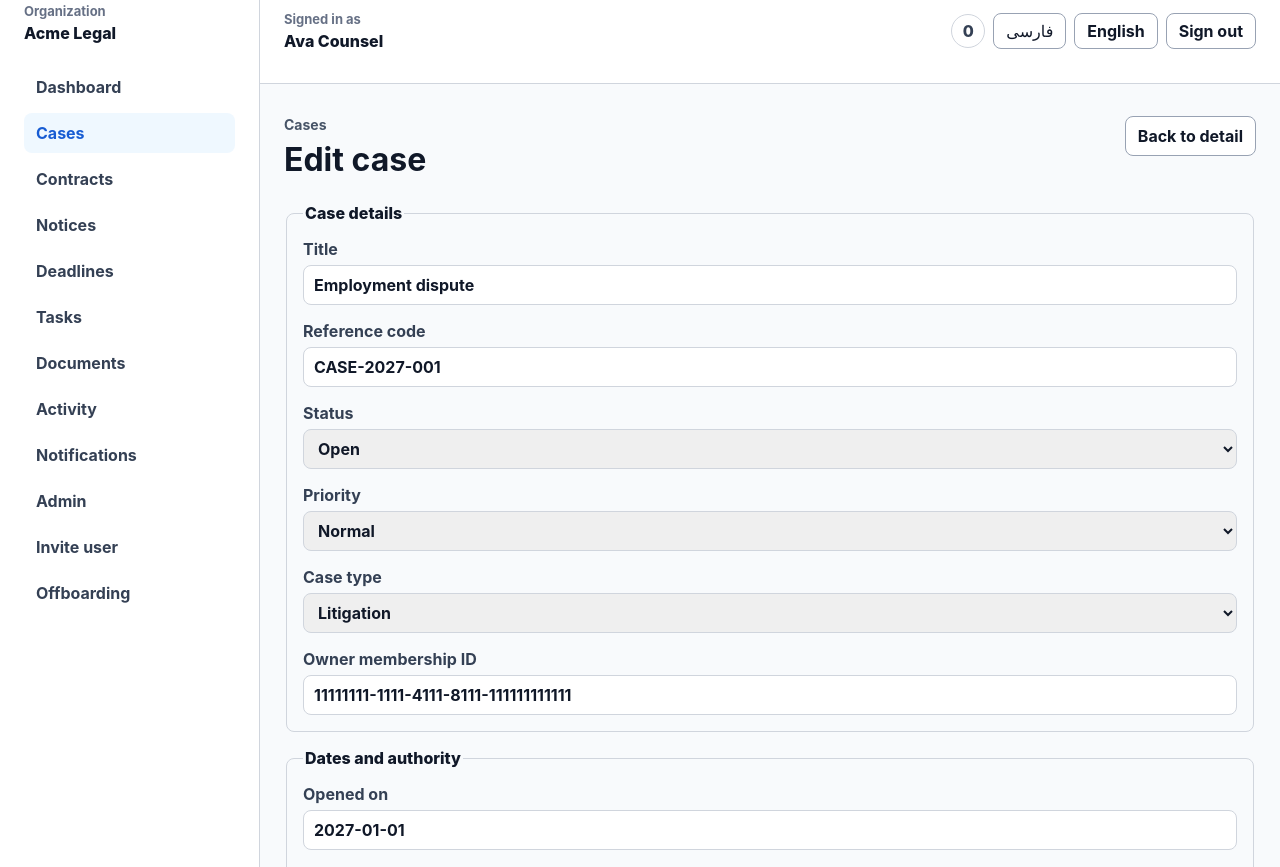
Scenario: version conflict is shown without clearing edited input
Replace the text in the field labelled "Title" with "Updated title". click: (770, 285)
box: [303, 265, 1237, 305]
(page scrolled)
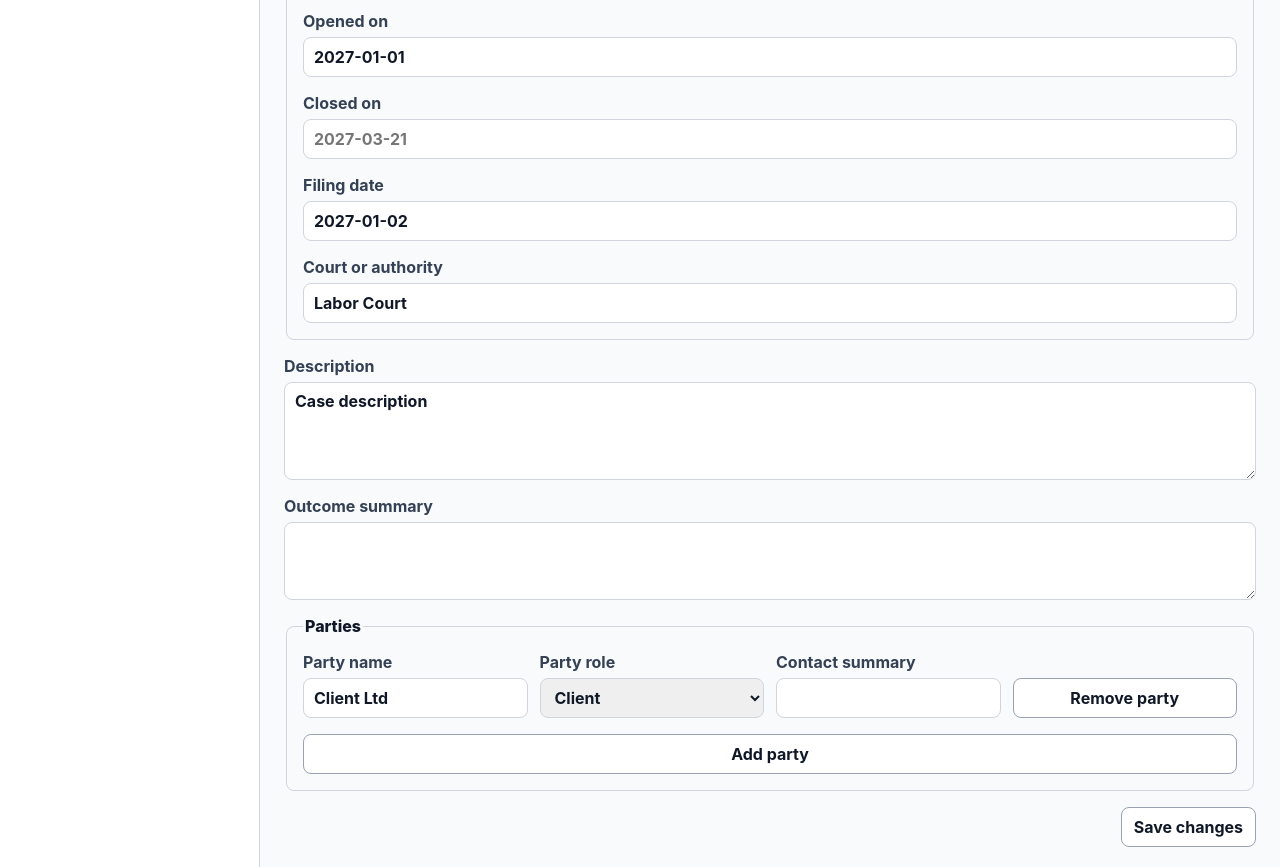
Click the button "Save changes". click: (1188, 827)
box: [1121, 807, 1256, 847]
(page scrolled)
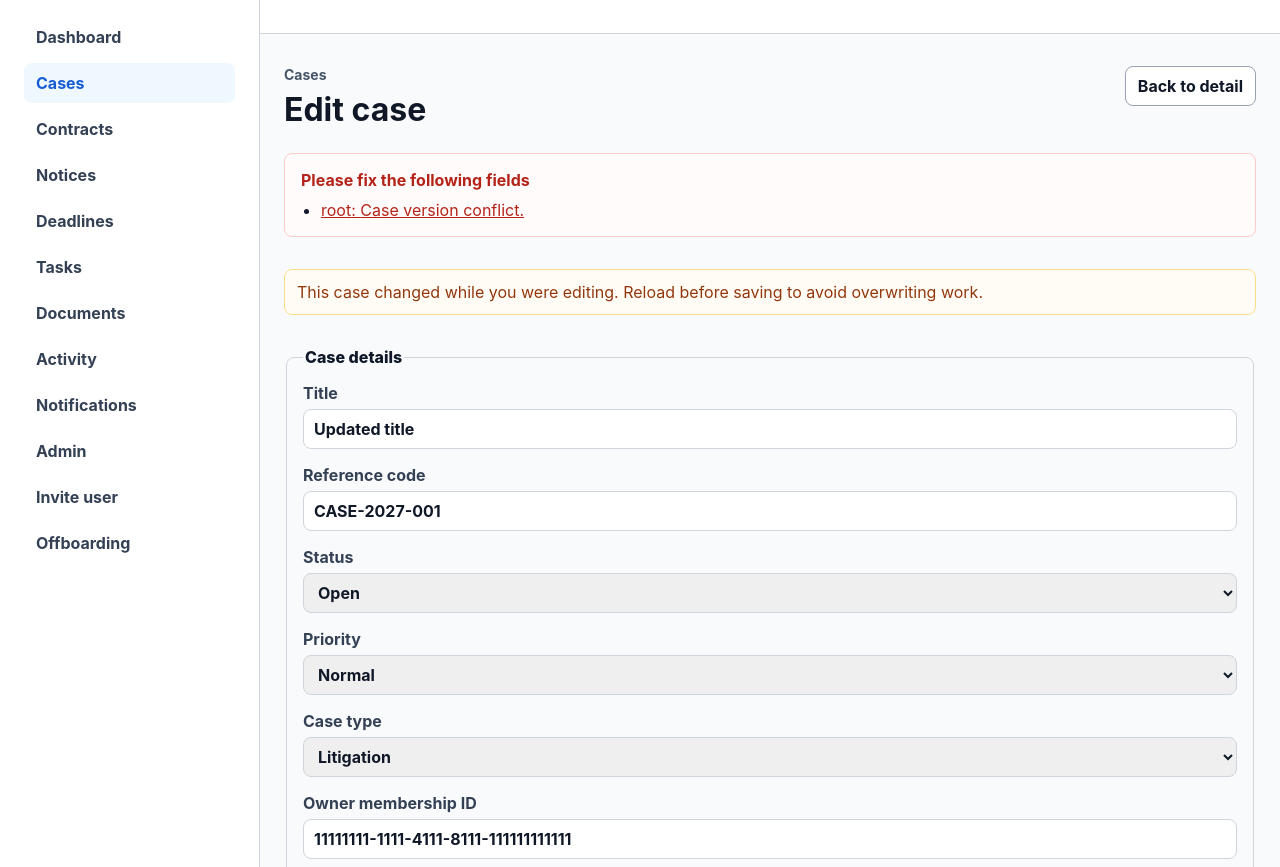
Now the text "changed while you were editing" is shown, box [297, 282, 983, 302]
